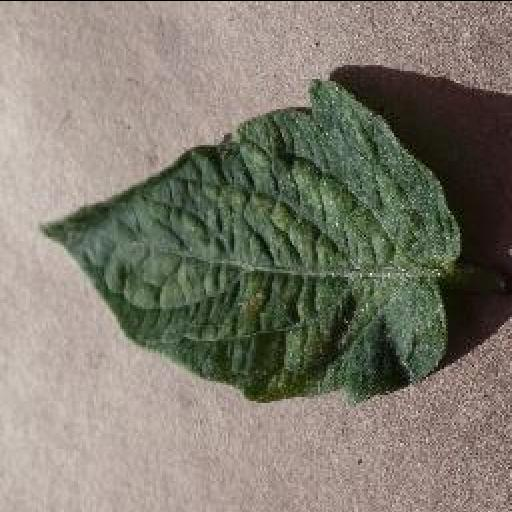disease_tomato: (36, 79, 462, 401)
